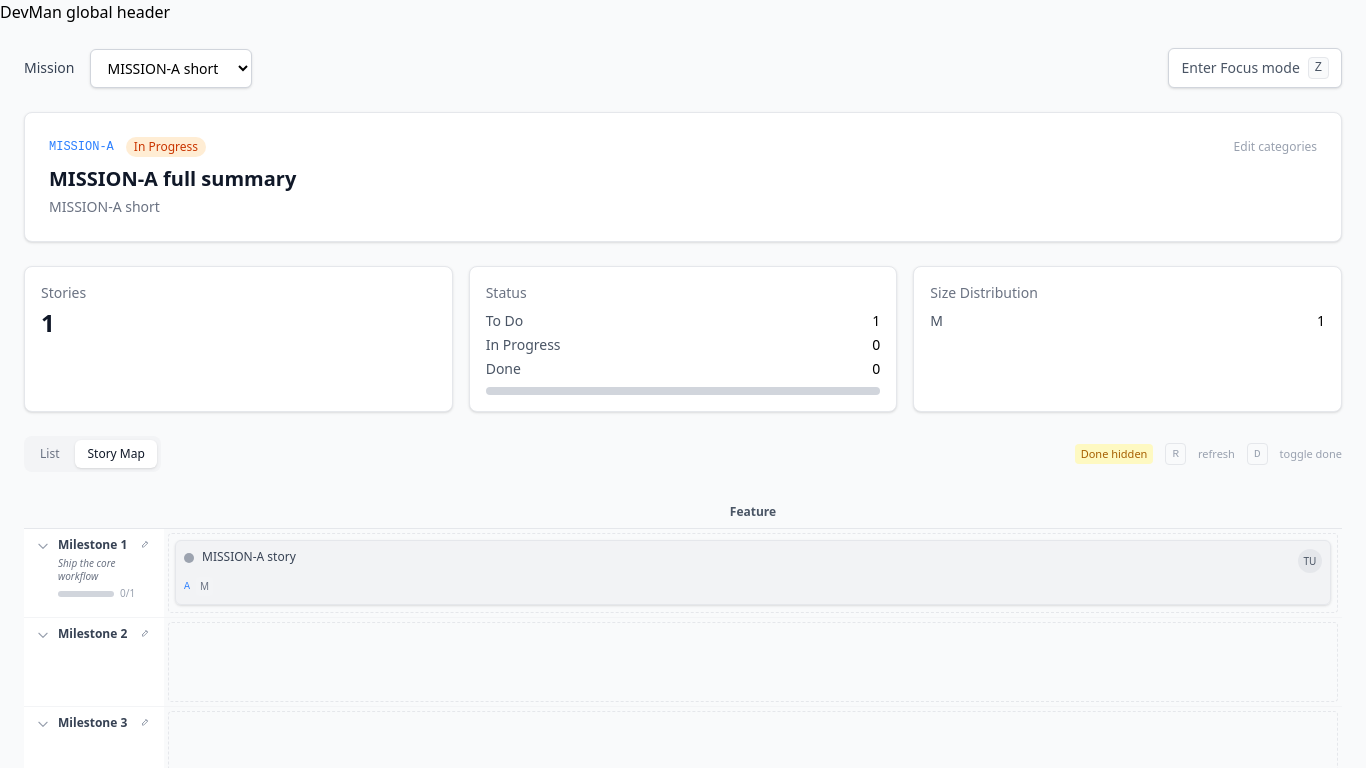
Test case: Mission Focus mode › closes Story detail with Escape without leaving Focus mode
Click the button "Enter Focus mode Z".
click(1255, 68)  # box [1168,48,1342,88]
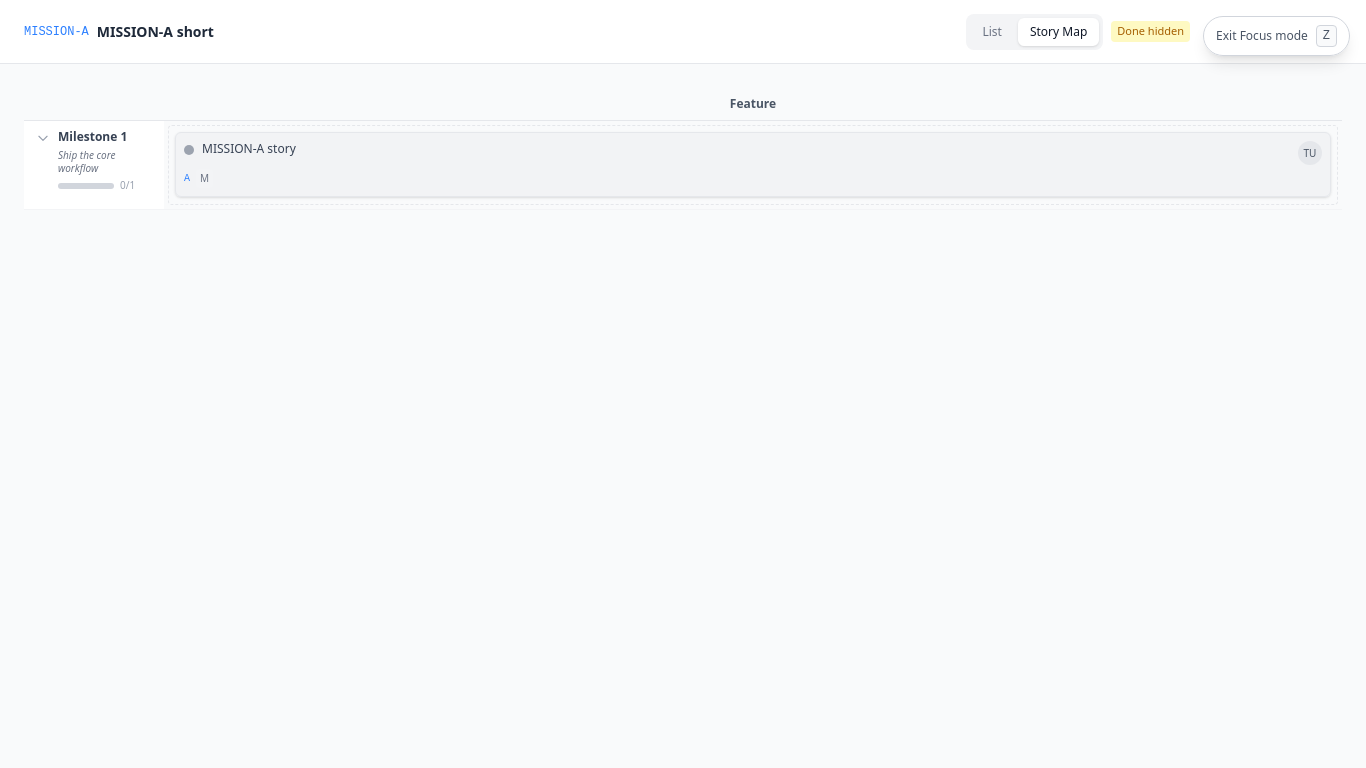
Press the mouse on the text "MISSION-A story" at (249, 148), box [202,140,296,157]
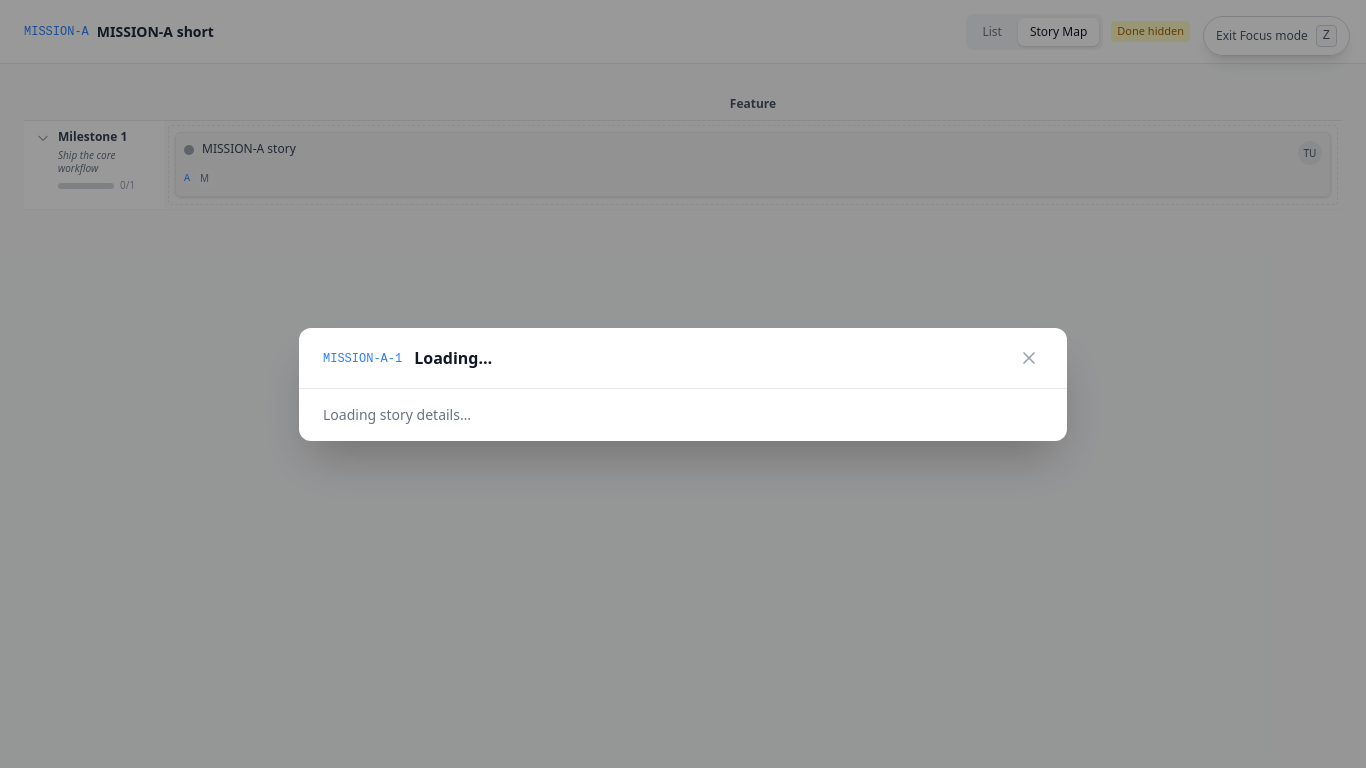
Expected: the heading "Loading…" is shown, [414,346,492,368]
Press Escape
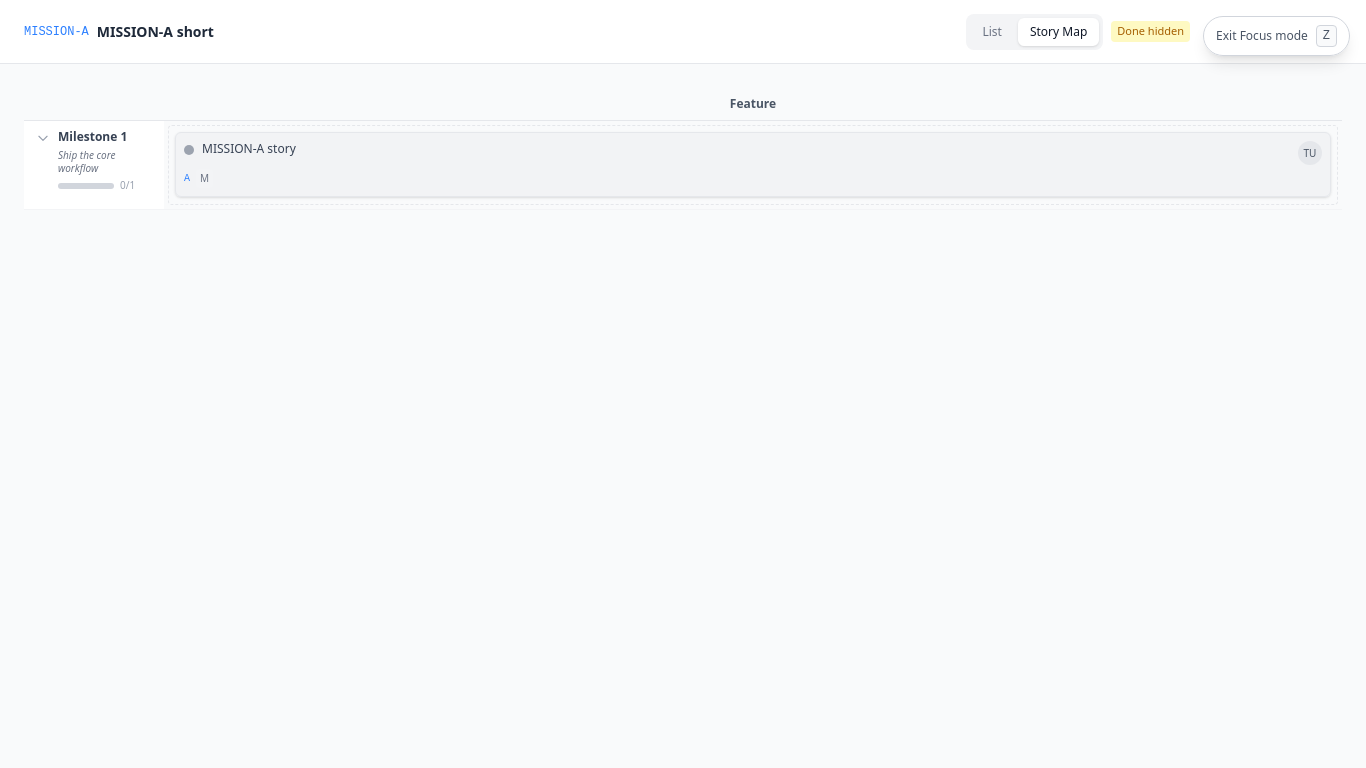
Expected: the button "Exit Focus mode Z" is shown, [1203,16,1350,56]
Expected: the heading "Loading…" is gone
